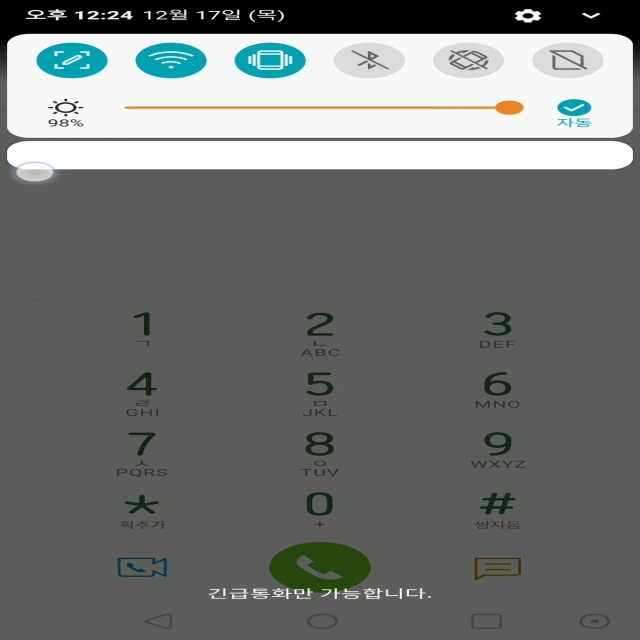Cursor: (13, 162, 57, 184)
